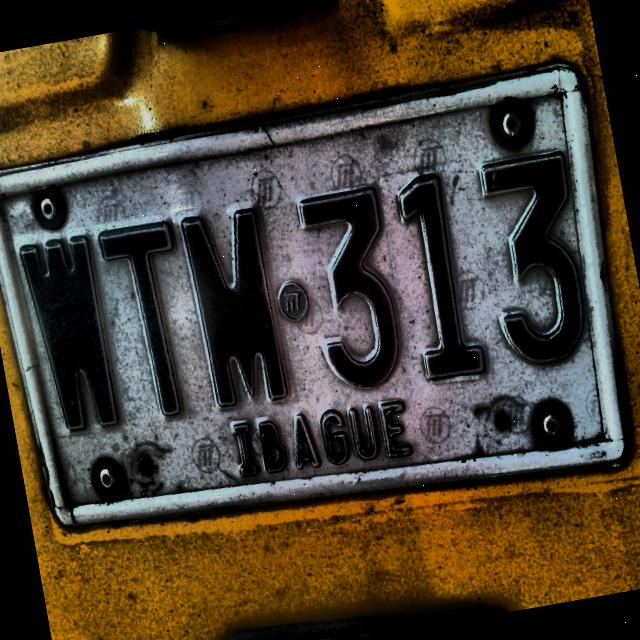plate: (0, 79, 621, 516)
